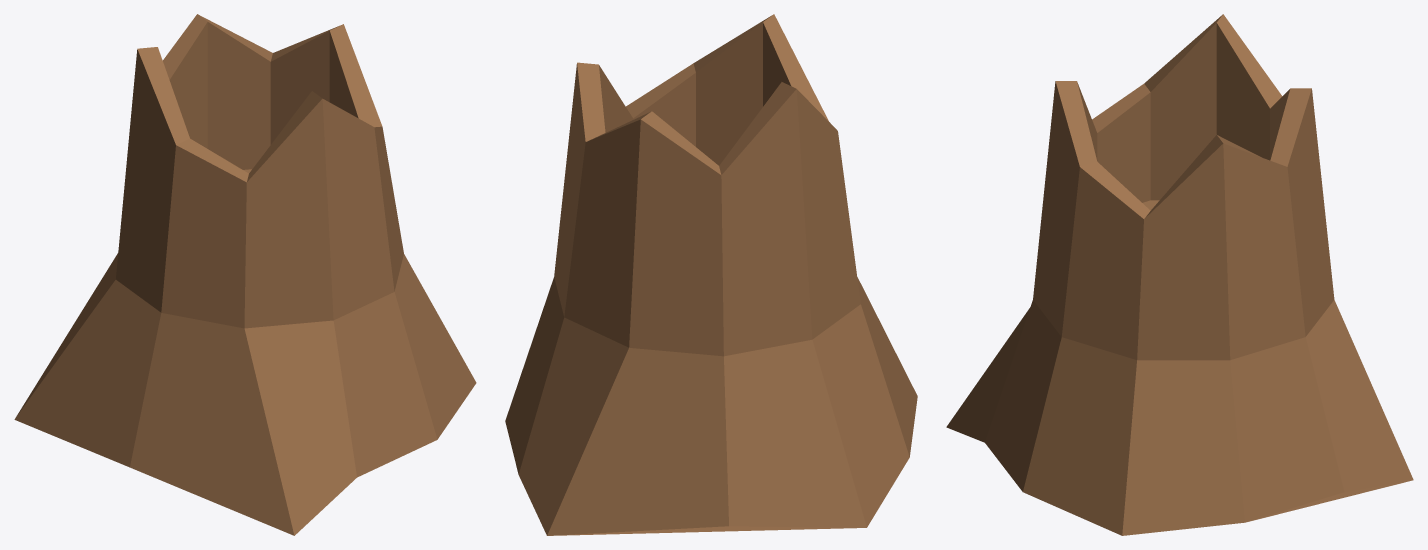
File: Treestumb_3.fbx
3 views of the same model, side by side, from view 1: azimuth 30°, elevation 25°; view 2: azimuth 150°, elevation 25°; view 3: azimuth 270°, elevation 25° (orthographic). The views are drawn at different scales.
Parts seen in each view (by area): view 1: Treestumb3_mesh; view 2: Treestumb3_mesh; view 3: Treestumb3_mesh.
Part boxes in pixels (x1,y1,x2,y2): Treestumb3_mesh: (14,14,476,535); Treestumb3_mesh: (505,14,917,535); Treestumb3_mesh: (946,14,1413,535).
Size of the model in its own units: 103 by 101 by 107.
